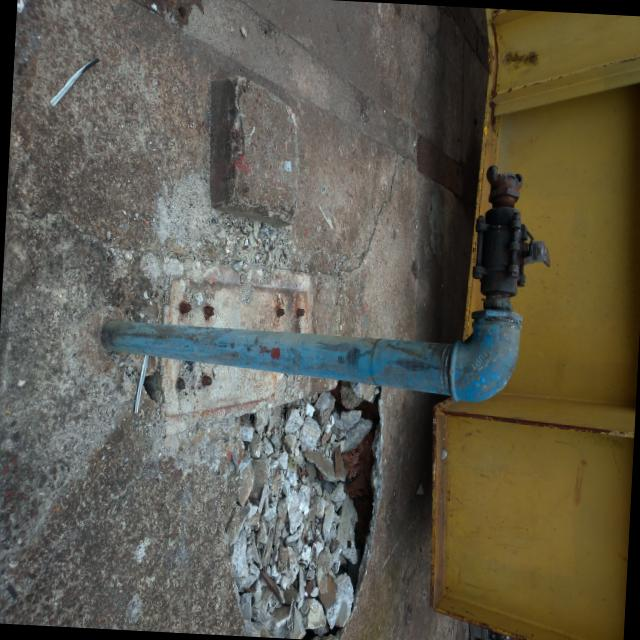gas: (106, 313, 519, 399)
